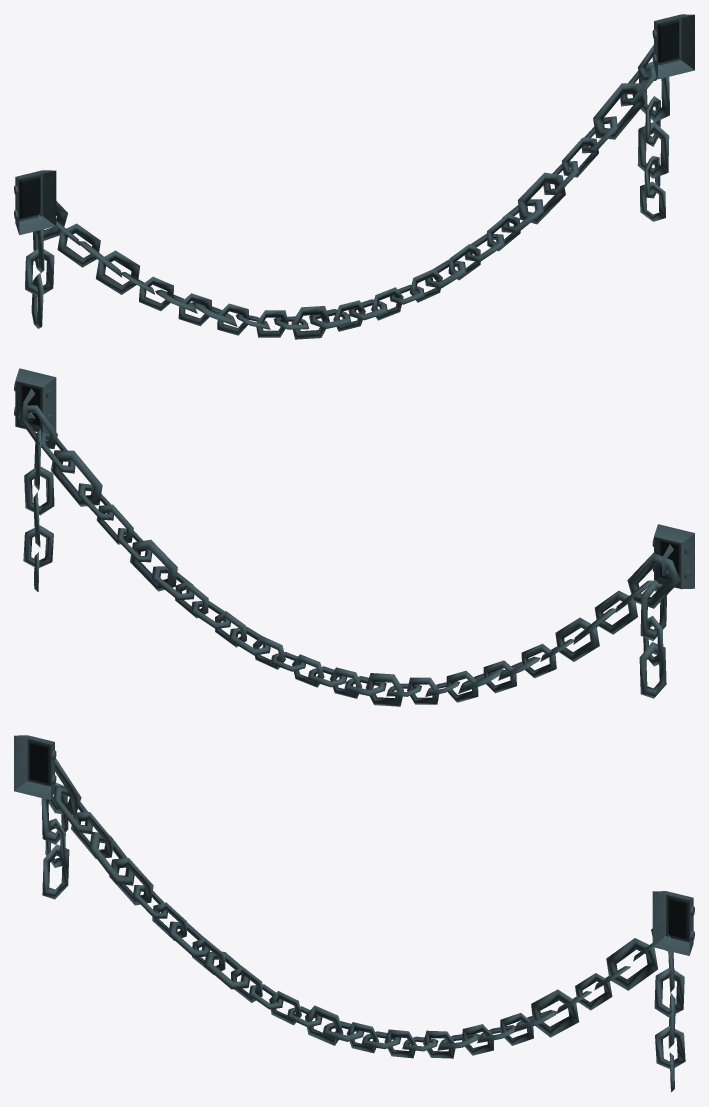
File: obj_chain_arch_A_LOW.FBX
The picture shows the model from 3 angles, top to bottom: view 1: azimuth 30°, elevation 25°; view 2: azimuth 150°, elevation 25°; view 3: azimuth 330°, elevation 25°; orthographic projection.
Parts seen in each view (by area): view 1: obj_chain_arch_A_LOW; view 2: obj_chain_arch_A_LOW; view 3: obj_chain_arch_A_LOW.
Boxes of the visible parts, left/top/right/bottom form: obj_chain_arch_A_LOW: left=14, top=14, right=694, bottom=339; obj_chain_arch_A_LOW: left=14, top=368, right=694, bottom=706; obj_chain_arch_A_LOW: left=14, top=735, right=694, bottom=1092.
Size of the model in its own units: 5.67 by 1.93 by 0.2871.
